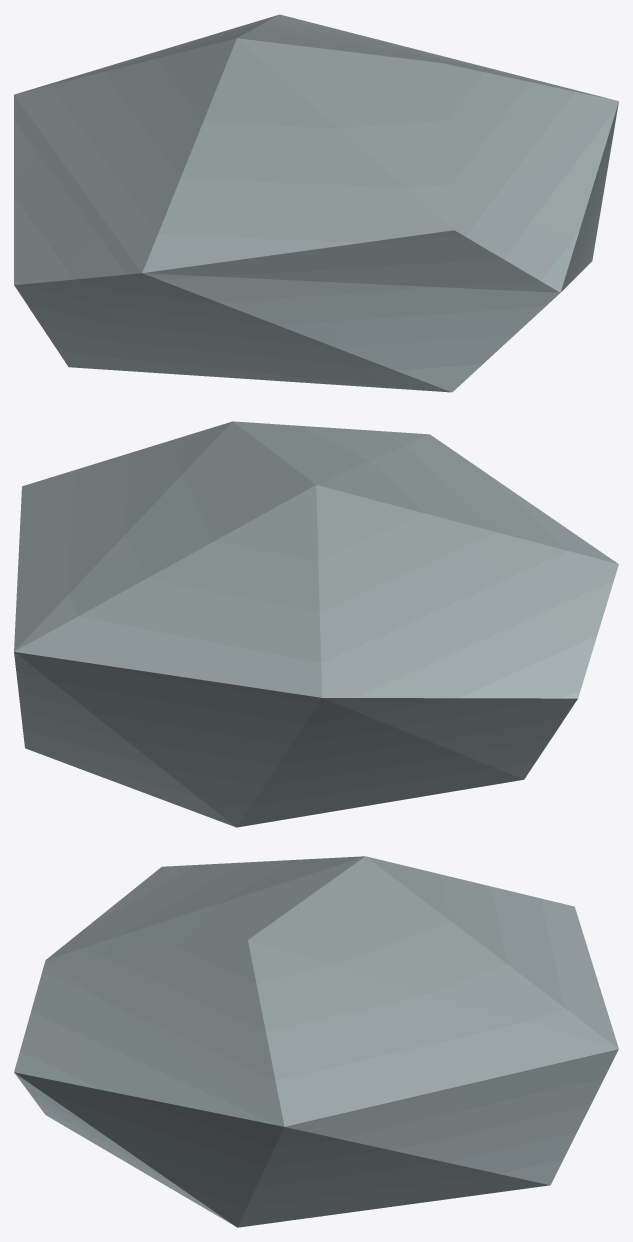
3 renders of one model, top to bottom at view 1: azimuth 30°, elevation 25°; view 2: azimuth 150°, elevation 25°; view 3: azimuth 270°, elevation 25°, orthographic. The views are drawn at different scales.
Parts seen in each view (by area): view 1: Rock_02; view 2: Rock_02; view 3: Rock_02.
Part boxes in pixels (bbox=[...]): Rock_02: bbox=[14, 14, 618, 392]; Rock_02: bbox=[14, 421, 618, 827]; Rock_02: bbox=[14, 856, 618, 1227].
Size of the model in its own units: 17.5 by 9.38 by 16.3.
